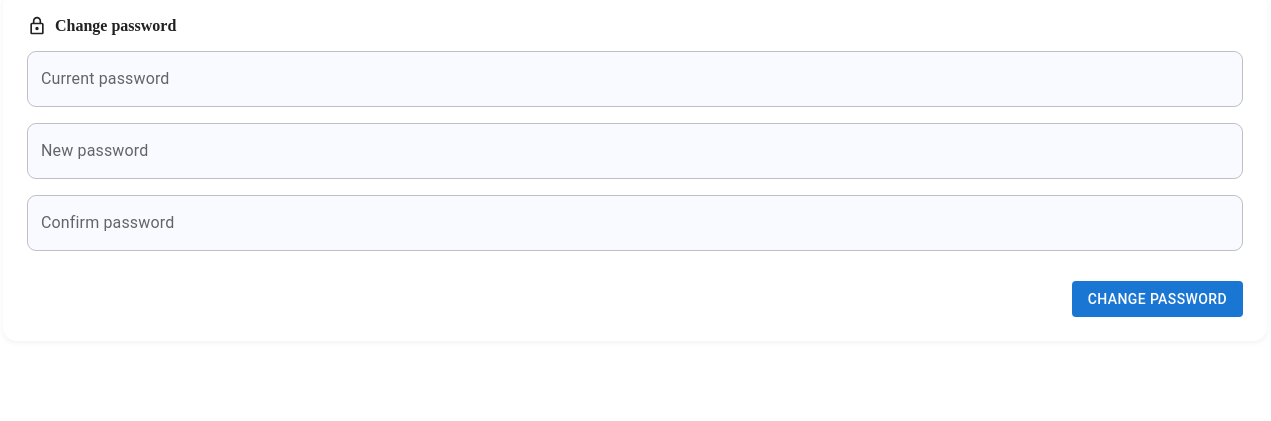
ChangePasswordForm › should keep the fields and show the backend error when the request fails
The width and height of the screenshot is (1271, 421).
Type "old-password" into the password field labelled "Current password" at (635, 79), box [27,51,1243,107]
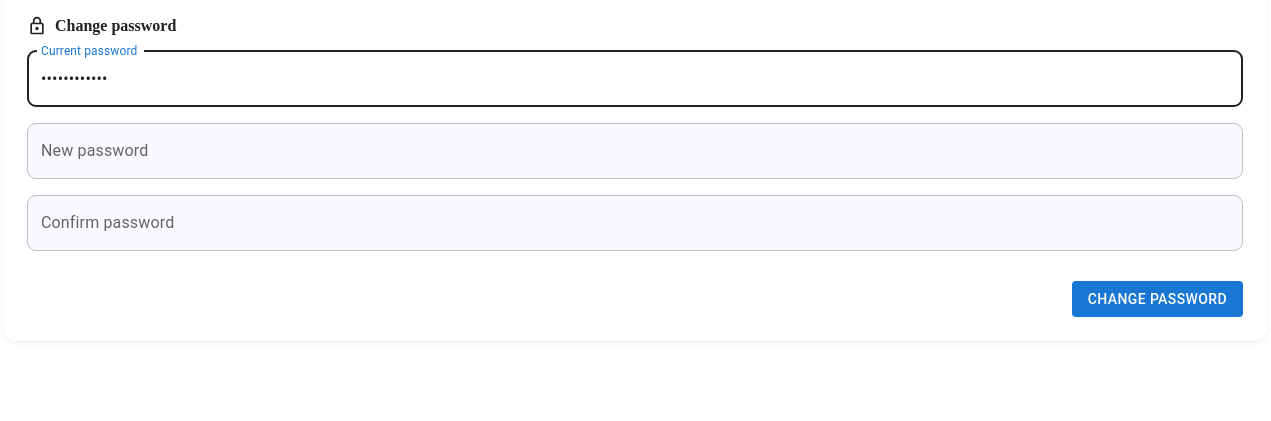
Type "new-password-123" into the password field labelled "New password" at (635, 151), box [27,123,1243,179]
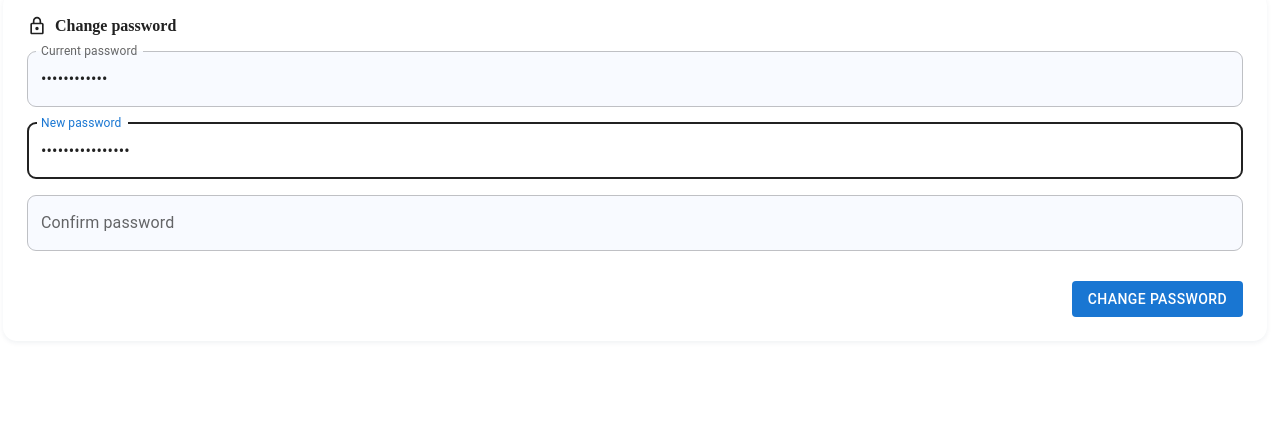
Type "new-password-123" into the password field labelled "Confirm password" at (635, 223), box [27,195,1243,251]
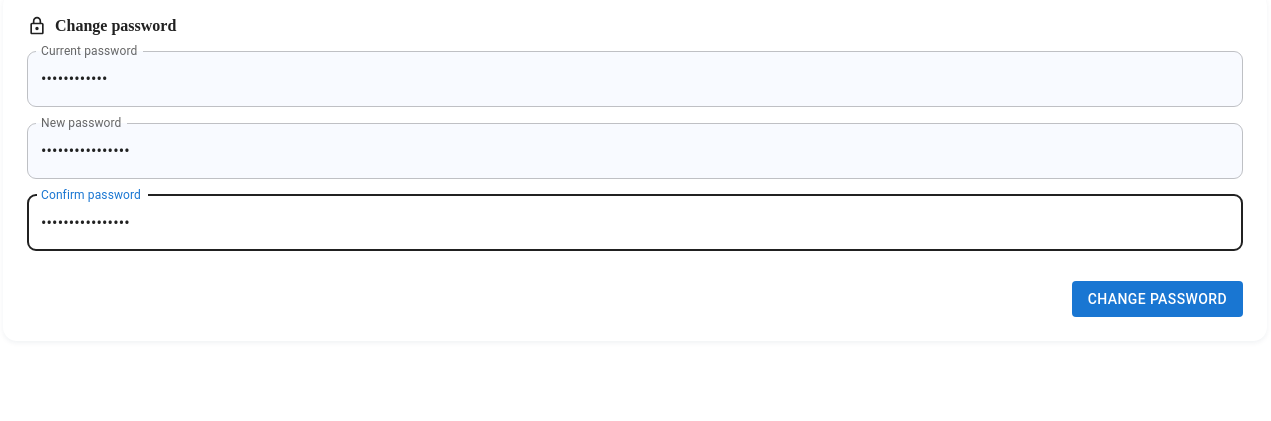
Click the button "Change password" at (1157, 299), box [1072,281,1243,317]
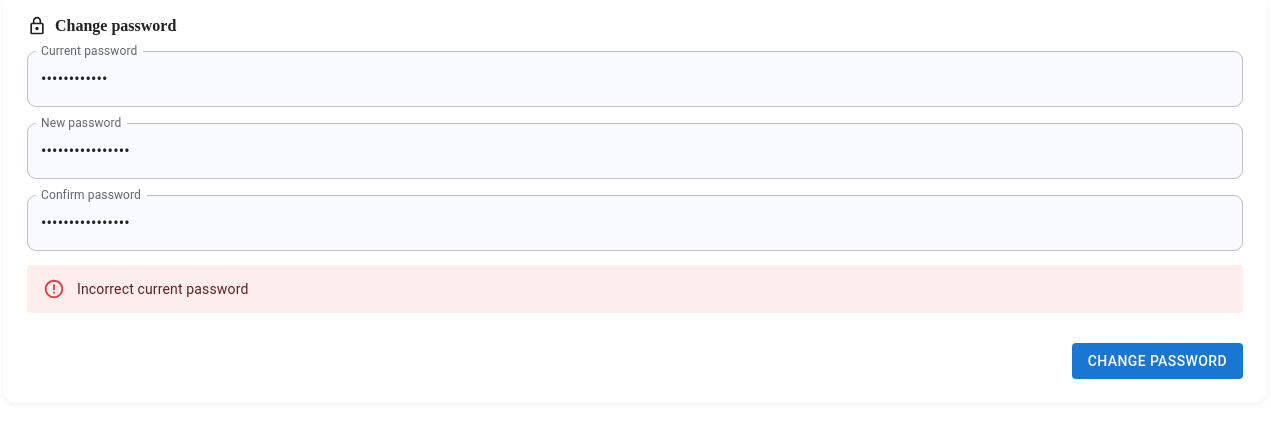
expect the message reads "Incorrect current password": met, box [77,281,248,297]
